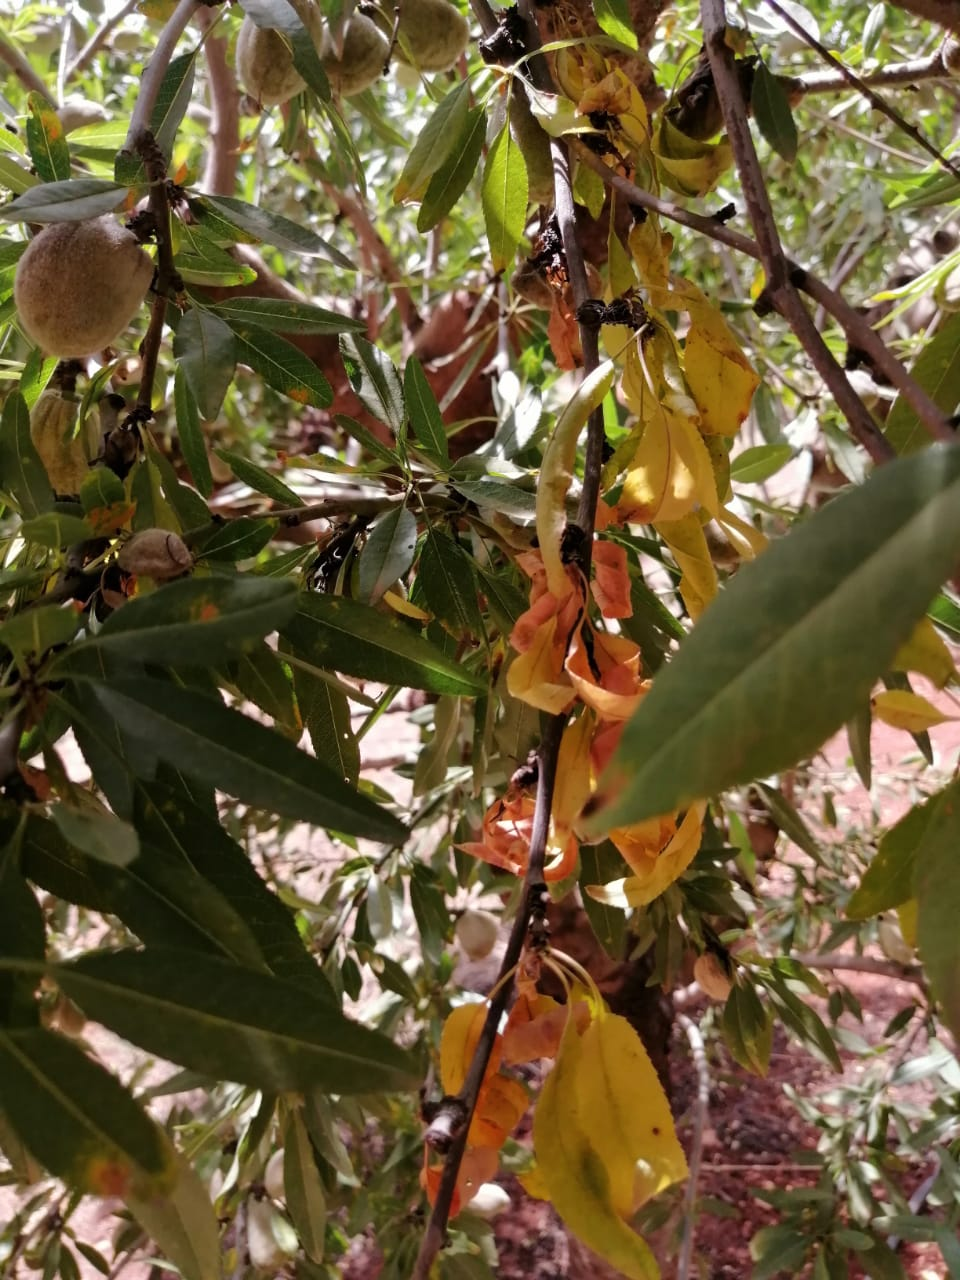chancre fusicocum: (418, 299, 764, 1264)
